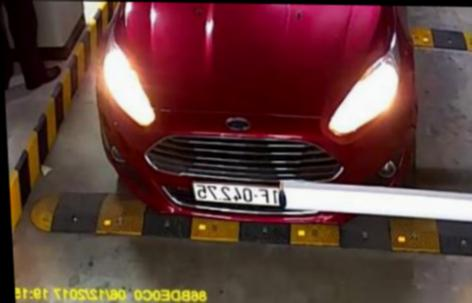License_Plate: (185, 178, 281, 212)
